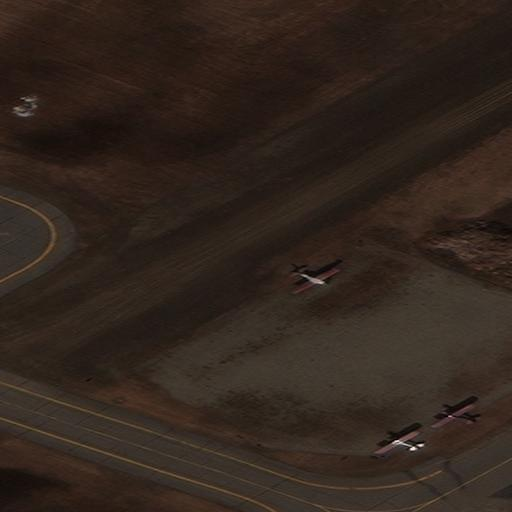Small Civil Transport: (294, 268, 341, 295), (372, 430, 420, 453), (431, 403, 477, 426)
